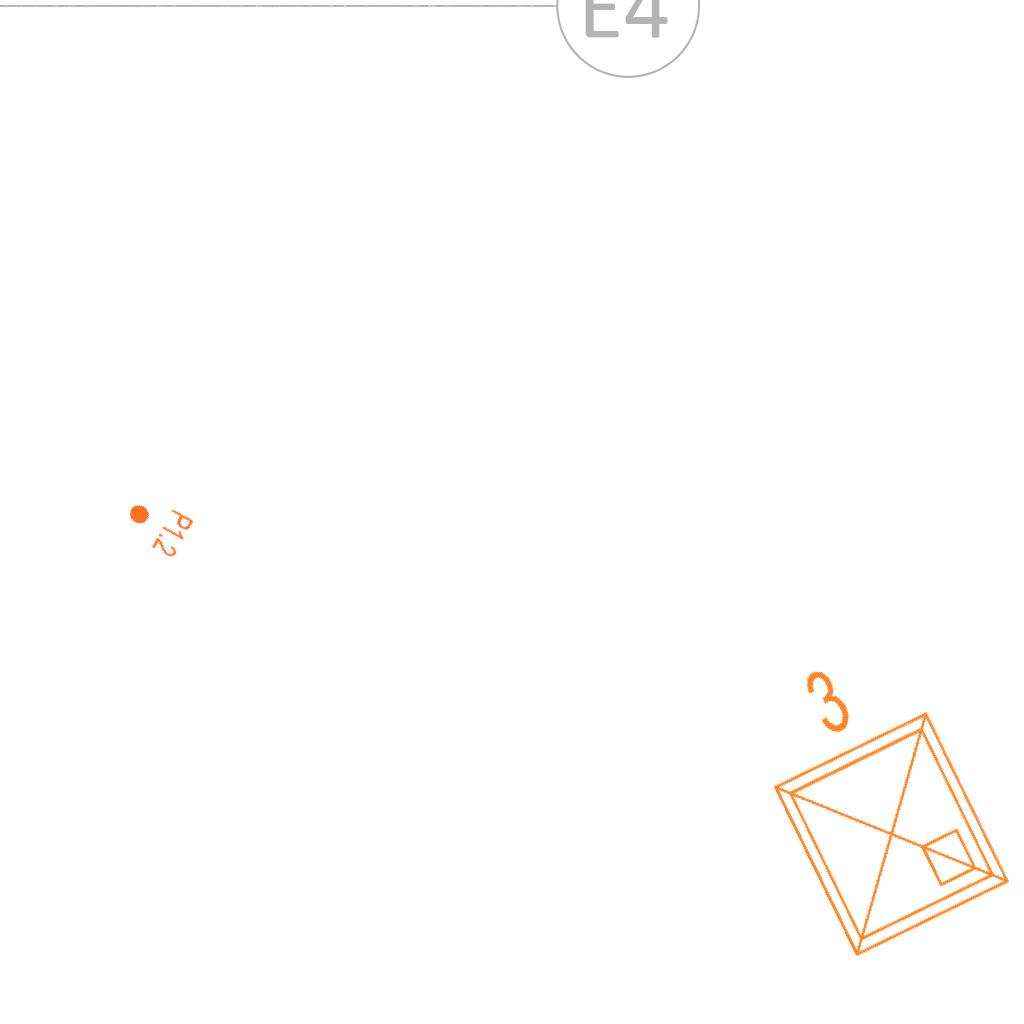Downlight_LED_Einbauleuchten_Flur: (117, 489, 197, 561)
Einbaudownlights_LED_Konferenzraeume: (710, 618, 1024, 980)
